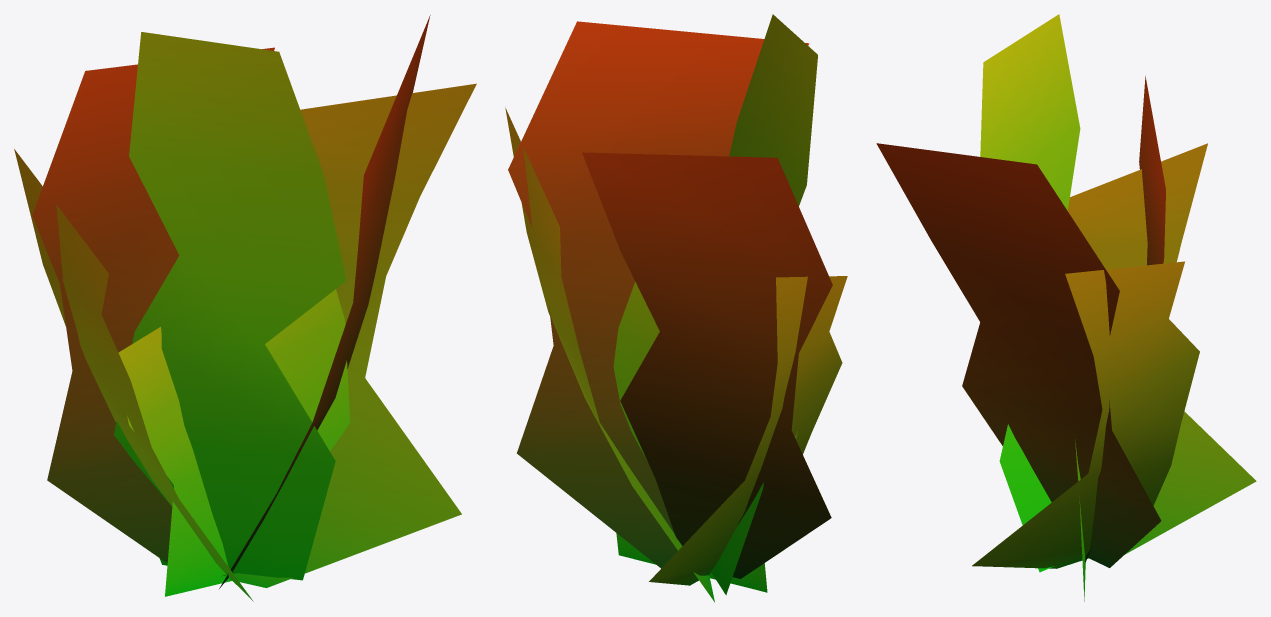
Rendered from Var8Hi28.fbx.
The picture shows the model from 3 angles, left to right: view 1: azimuth 30°, elevation 25°; view 2: azimuth 150°, elevation 25°; view 3: azimuth 270°, elevation 25°; orthographic projection. The views are drawn at different scales.
Parts seen in each view (by area): view 1: bend1; view 2: bend1; view 3: bend1.
Boxes of the visible parts, bbox=[...] form: bend1: bbox=[14, 15, 476, 601]; bend1: bbox=[505, 14, 847, 602]; bend1: bbox=[876, 14, 1256, 601].
Bounding box in the file's own units: 1.26 × 1.76 × 1.21.
